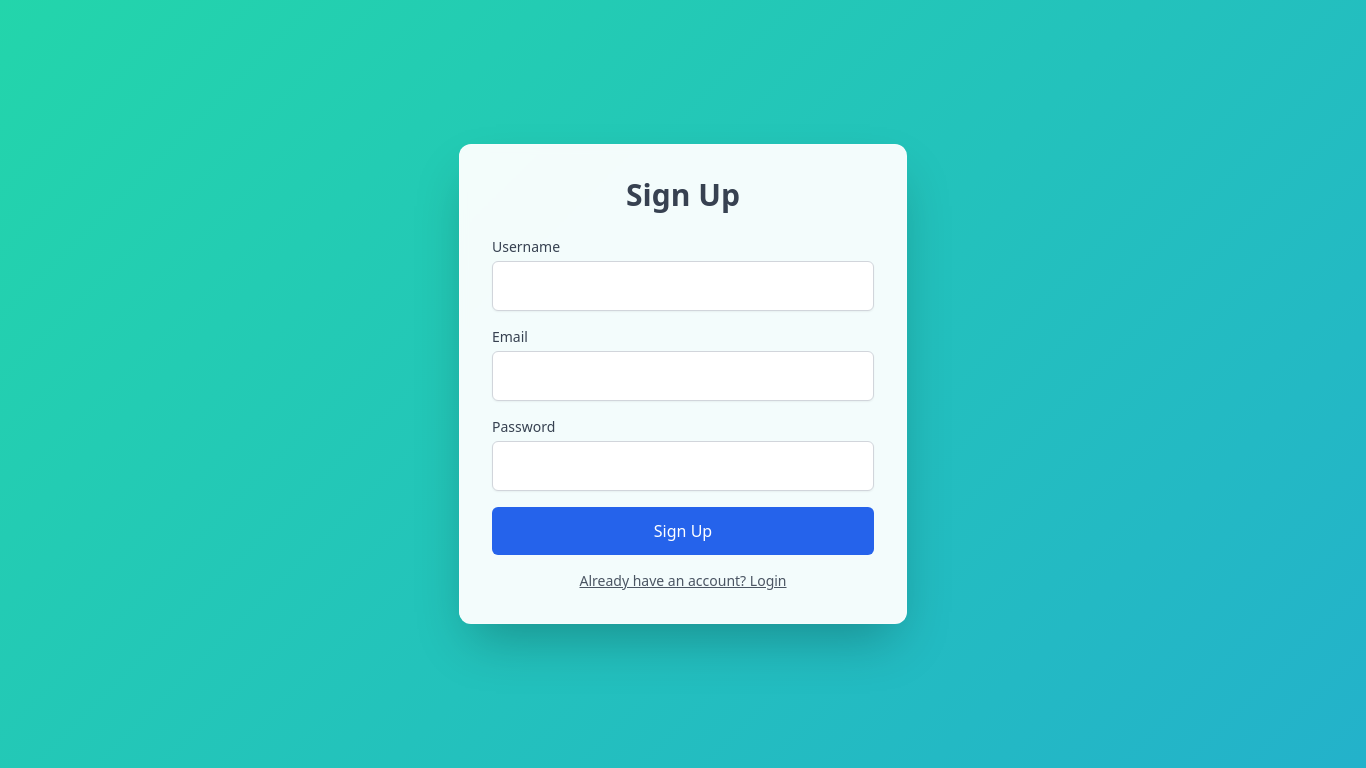
Scenario: TC-A003 REFACTOR: invalid email shows server-provided "Invalid email format" error
The width and height of the screenshot is (1366, 768).
Type "John Doe" into the field labelled "Username". click: (683, 286)
box: 492,261 -> 874,311
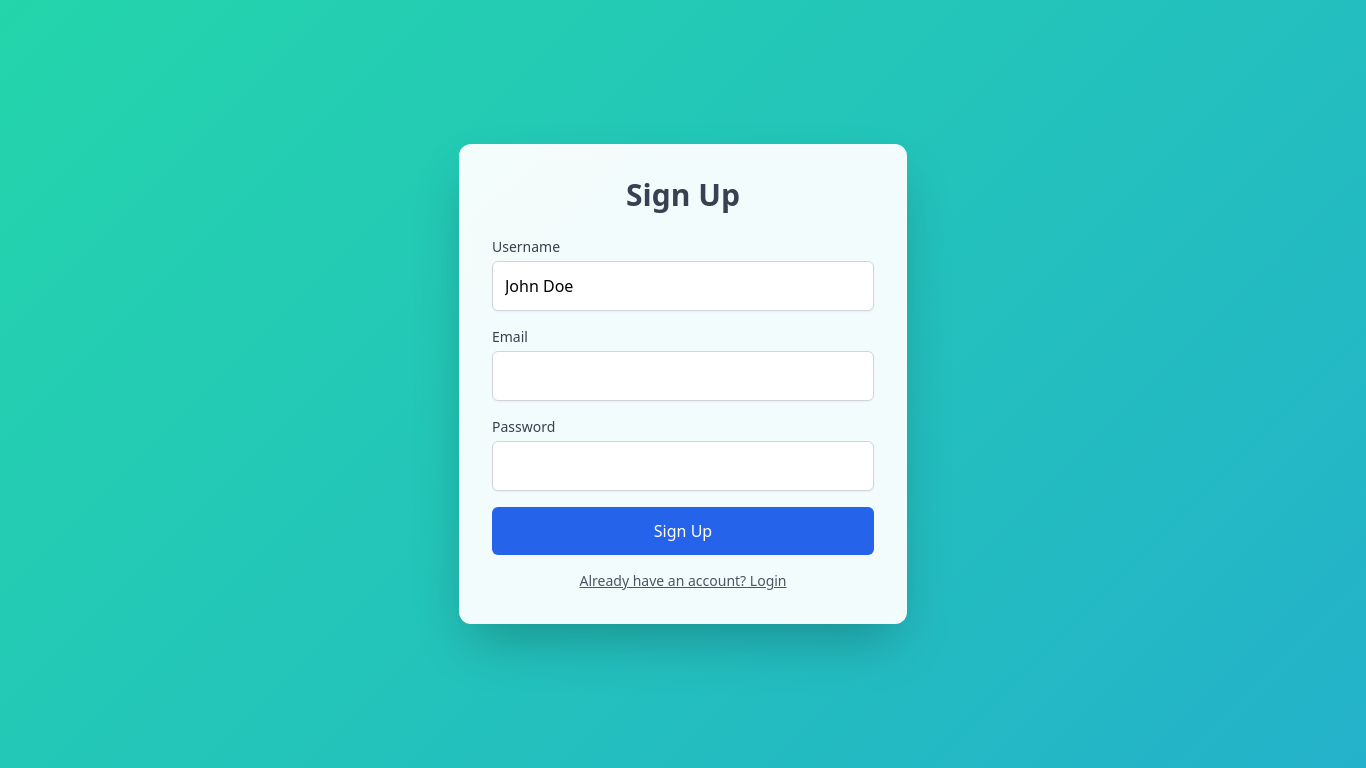
Type "invalid-email" into the field labelled "Email". click: (683, 376)
box: 492,351 -> 874,401
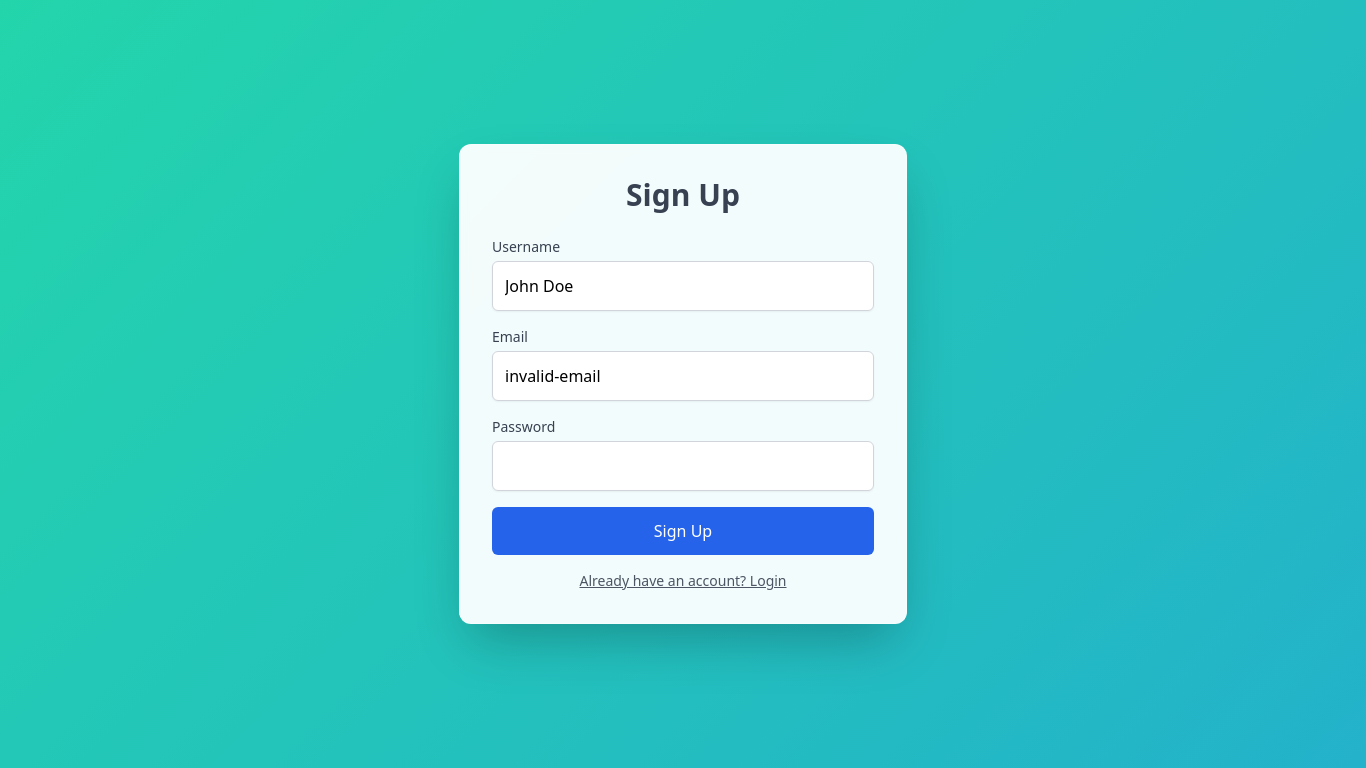
Type "ValidPassword123!" into the password field labelled "Password". click: (683, 466)
box: 492,441 -> 874,491
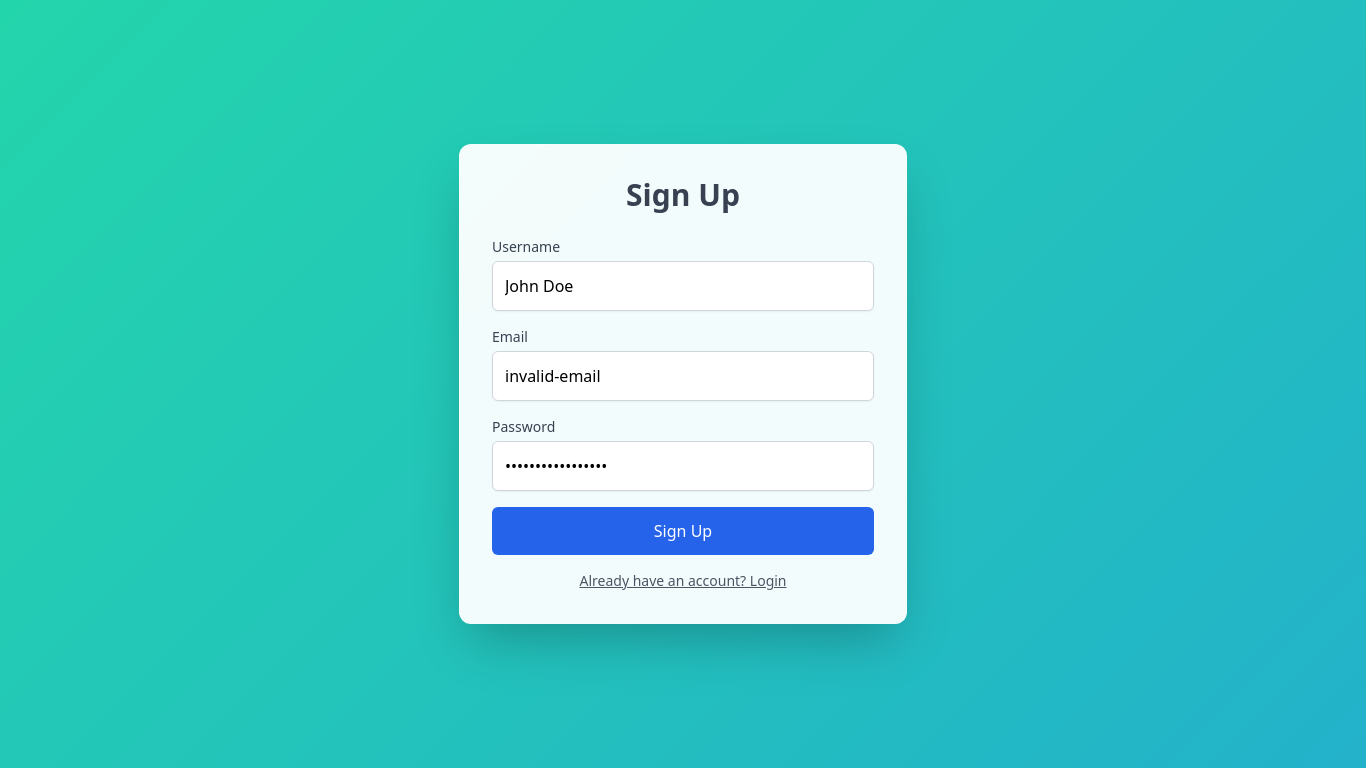
Submit the form, box 492,237 -> 874,591
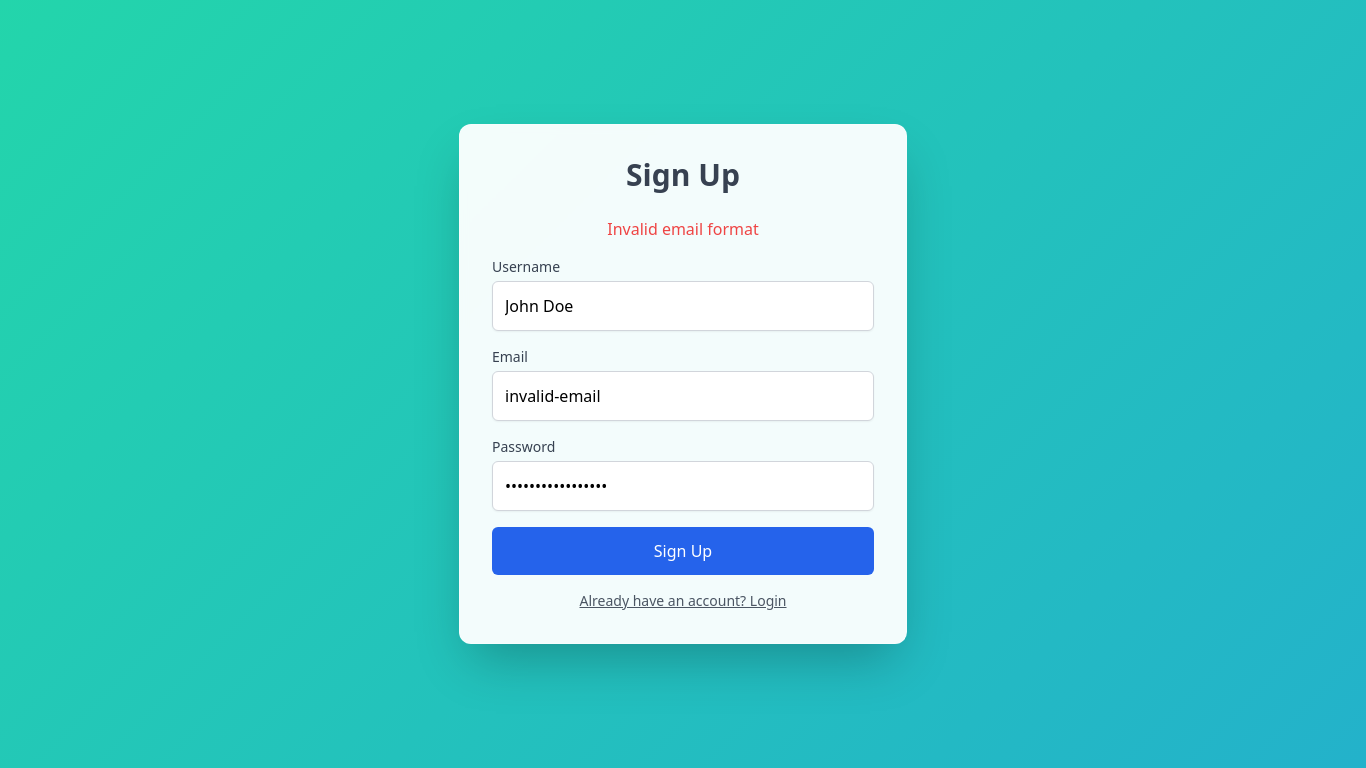
expect the text "Invalid email format" is shown: met, box 607,218 -> 759,240
